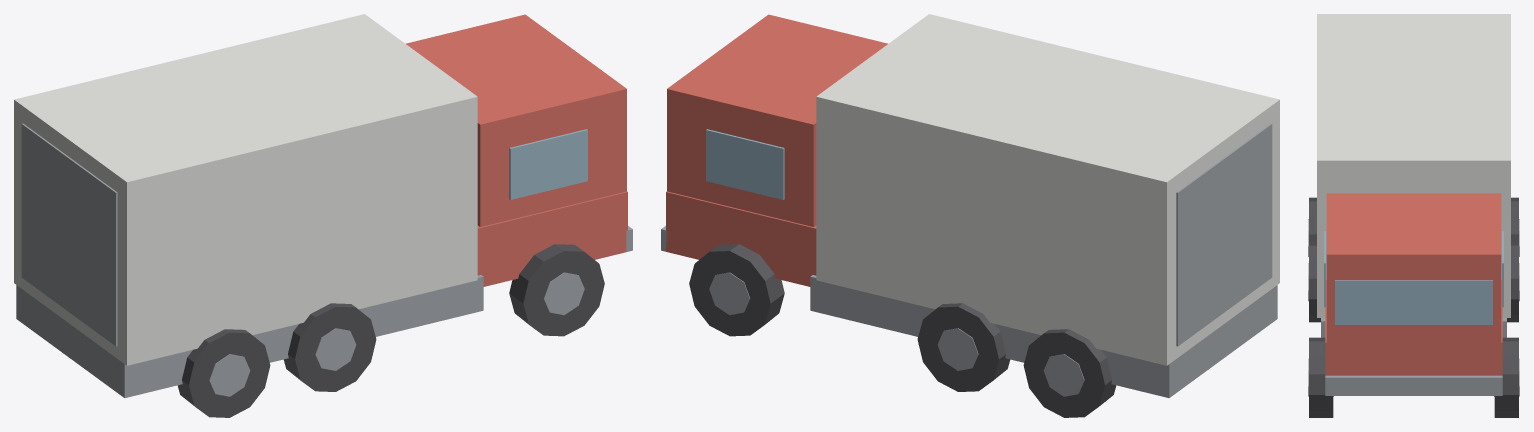
Rendered from dm_boxtruck.glb.
3 views of the same model, side by side, from view 1: azimuth 30°, elevation 25°; view 2: azimuth 150°, elevation 25°; view 3: azimuth 270°, elevation 25° (orthographic). The views are drawn at different scales.
Visible parts, largest first — view 1: TruckBox; view 2: TruckBox; view 3: TruckBox.
Part boxes in pixels (<box>): TruckBox: <box>14,14,632,417</box>; TruckBox: <box>661,14,1279,417</box>; TruckBox: <box>1308,14,1519,417</box>.
Size of the model in its own units: 6.28 by 3 by 2.62.
